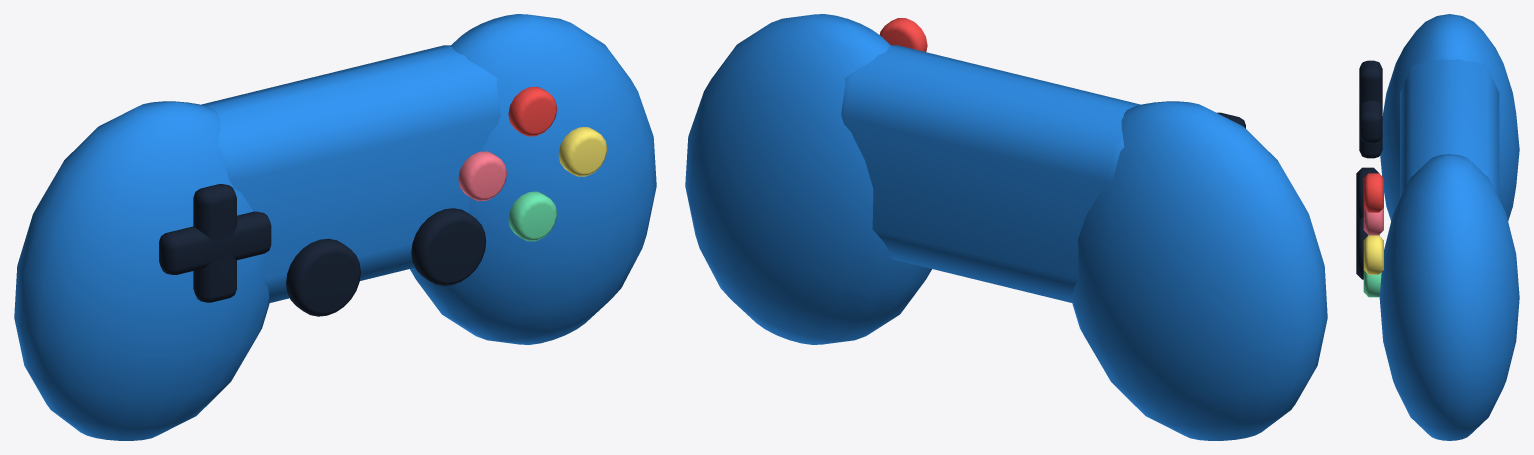
The model's file is gamepad.fbx.
The picture shows the model from 3 angles, left to right: view 1: azimuth 30°, elevation 25°; view 2: azimuth 150°, elevation 25°; view 3: azimuth 270°, elevation 25°; orthographic projection. The views are drawn at different scales.
Visible parts, largest first — view 1: gamepad; view 2: gamepad; view 3: gamepad.
Part boxes in pixels (left/top/right/bottom): gamepad: left=14, top=14, right=656, bottom=440; gamepad: left=685, top=14, right=1327, bottom=440; gamepad: left=1356, top=14, right=1519, bottom=440.
Bounding box in the file's own units: 100 × 48.9 × 27.91.
Materials: 1 (1 with a texture image).
